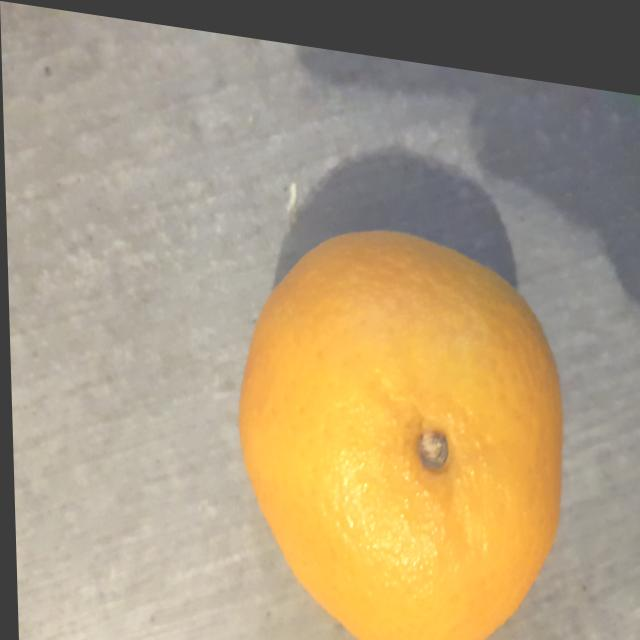Orange: (236, 215, 564, 640)
